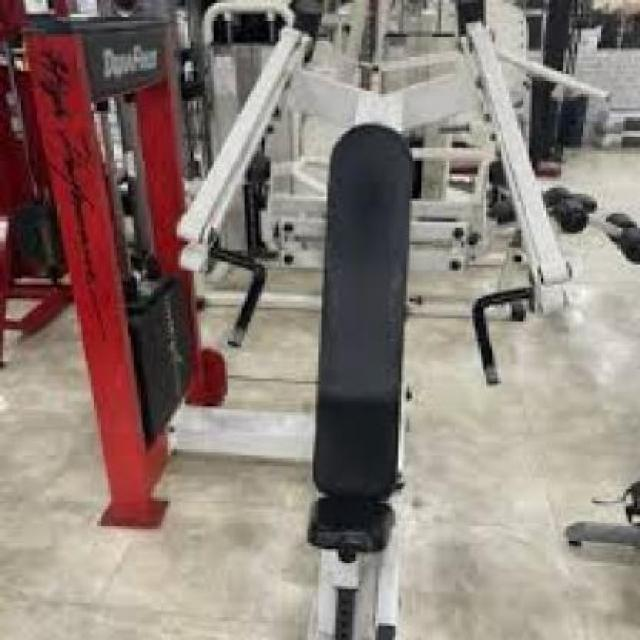Chest Press machine: (20, 0, 582, 640)
